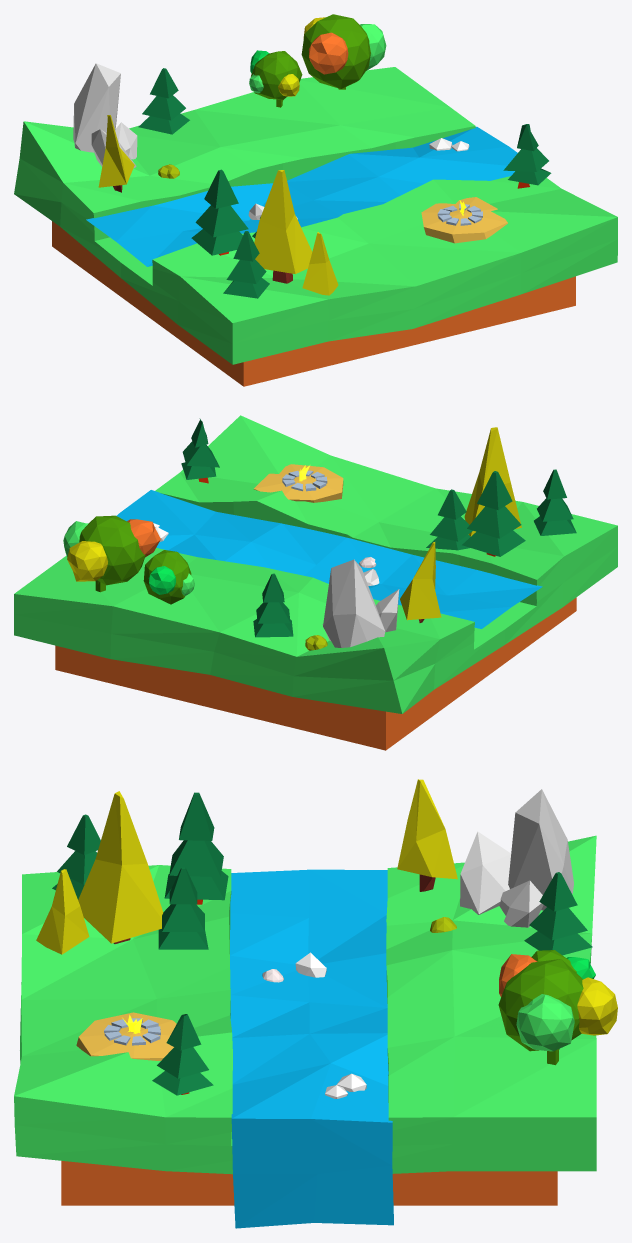
File: fountain.glb
3 renders of one model, top to bottom at view 1: azimuth 30°, elevation 25°; view 2: azimuth 150°, elevation 25°; view 3: azimuth 270°, elevation 25°, orthographic. The views are drawn at different scales.
Parts seen in each view (by area): view 1: Cube, Plane, Cube.002, Icosphere, Icosphere.004, Cube.003, Circle, Cube.008, Cube.004, Cube.009, Icosphere.010, Cube.007 (+5 smaller); view 2: Cube, Plane, Icosphere, Cube.003, Icosphere.004, Circle, Cube.007, Cube.002, Cube.008, Cube.004, Cube.005, Cube.009 (+6 smaller); view 3: Cube, Plane, Cube.002, Icosphere, Cube.007, Icosphere.004, Cube.003, Icosphere.001, Cube.008, Cube.005, Circle, Cube.009 (+7 smaller).
Part boxes in pixels (bbox=[...]): Cube: bbox=[14, 67, 617, 386]; Plane: bbox=[86, 126, 517, 266]; Cube.002: bbox=[254, 170, 312, 283]; Icosphere: bbox=[73, 63, 120, 152]; Icosphere.004: bbox=[301, 14, 370, 89]; Cube.003: bbox=[191, 169, 248, 255]; Circle: bbox=[421, 197, 507, 243]; Cube.008: bbox=[138, 68, 189, 134]; Cube.004: bbox=[223, 231, 269, 298]; Cube.009: bbox=[503, 124, 551, 188]; Icosphere.010: bbox=[251, 51, 302, 107]; Cube.007: bbox=[98, 115, 134, 192]; Cube: bbox=[14, 415, 617, 750]; Plane: bbox=[116, 490, 542, 628]; Icosphere: bbox=[323, 559, 385, 647]; Cube.003: bbox=[462, 471, 525, 556]; Icosphere.004: bbox=[79, 515, 145, 592]; Circle: bbox=[254, 464, 343, 502]; Cube.007: bbox=[400, 542, 441, 622]; Cube.002: bbox=[464, 427, 521, 536]; Cube.008: bbox=[253, 573, 293, 637]; Cube.004: bbox=[534, 469, 576, 535]; Cube.005: bbox=[426, 489, 472, 550]; Cube.009: bbox=[181, 418, 219, 483]; Cube: bbox=[14, 835, 596, 1205]; Plane: bbox=[230, 869, 393, 1228]; Cube.002: bbox=[78, 791, 163, 943]; Icosphere: bbox=[508, 789, 573, 910]; Cube.007: bbox=[397, 779, 457, 891]; Icosphere.004: bbox=[498, 959, 583, 1065]; Cube.003: bbox=[164, 792, 228, 904]; Icosphere.001: bbox=[460, 831, 510, 914]; Cube.008: bbox=[524, 872, 592, 955]; Cube.005: bbox=[158, 867, 208, 949]; Circle: bbox=[76, 1012, 176, 1060]; Cube.009: bbox=[152, 1014, 213, 1095].
Size of the model in its own units: 7.1 by 3.29 by 7.3.
